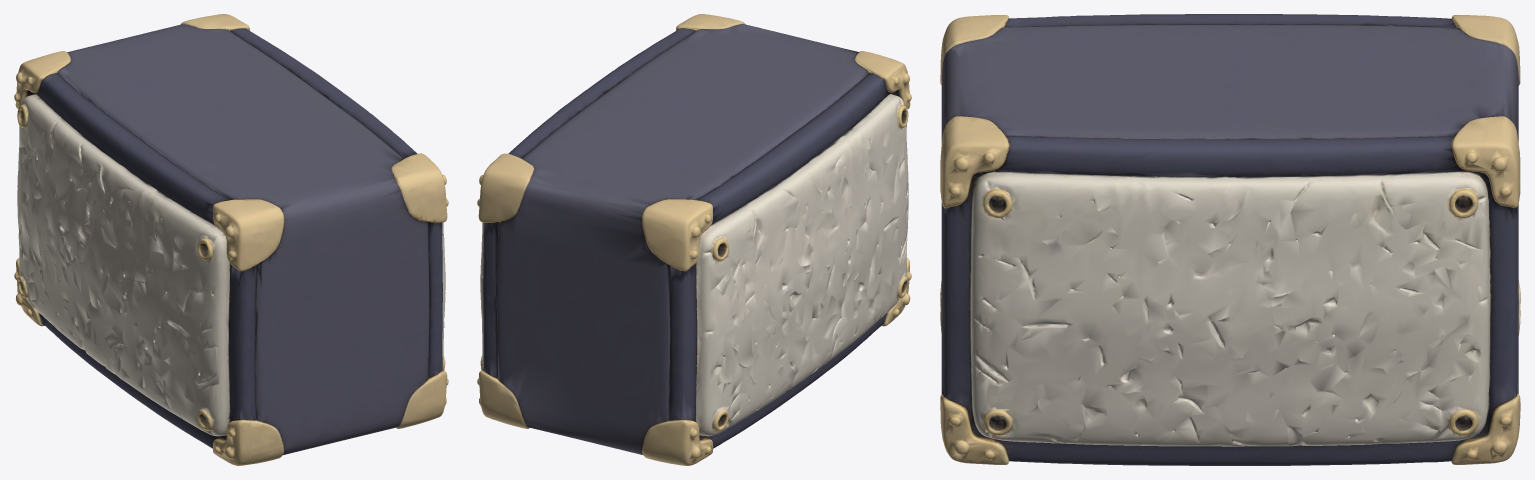
Rendered from JP_사물_s2_sign_hr_room_old.glb.
The picture shows the model from 3 angles, left to right: view 1: azimuth 30°, elevation 25°; view 2: azimuth 150°, elevation 25°; view 3: azimuth 270°, elevation 25°; orthographic projection. The views are drawn at different scales.
Visible parts, largest first — view 1: tripo_node_2ca57f19-3168-4dac-8089-aa6bae58665c; view 2: tripo_node_2ca57f19-3168-4dac-8089-aa6bae58665c; view 3: tripo_node_2ca57f19-3168-4dac-8089-aa6bae58665c.
Boxes of the visible parts, left/top/right/bottom form: tripo_node_2ca57f19-3168-4dac-8089-aa6bae58665c: left=14, top=14, right=448, bottom=465; tripo_node_2ca57f19-3168-4dac-8089-aa6bae58665c: left=477, top=14, right=911, bottom=465; tripo_node_2ca57f19-3168-4dac-8089-aa6bae58665c: left=940, top=14, right=1520, bottom=465.
Size of the model in its own units: 0.6761 by 0.618 by 1.
1 material, 1 textured.
